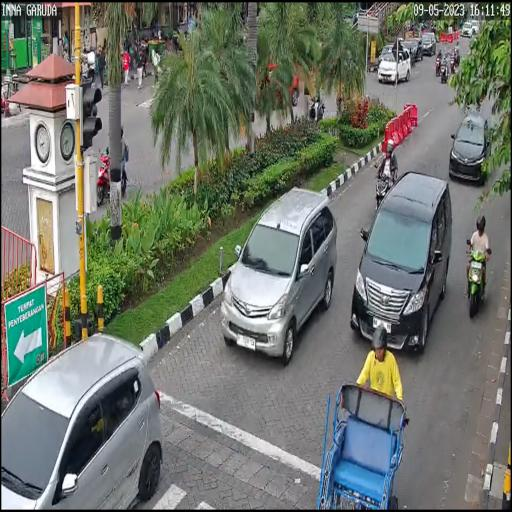mobil: (0, 334, 166, 512), (219, 185, 337, 369), (348, 172, 454, 362), (448, 106, 492, 189)
motor: (464, 237, 493, 323)
